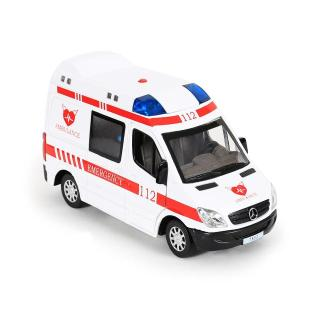Ambulance: (30, 51, 290, 269)
